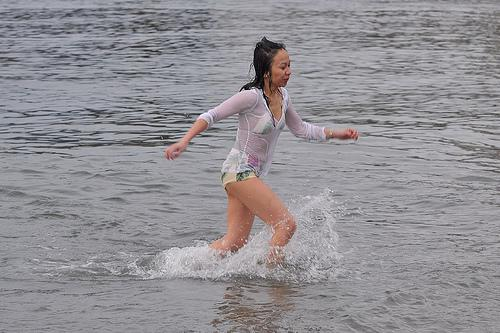human: (164, 36, 360, 270)
